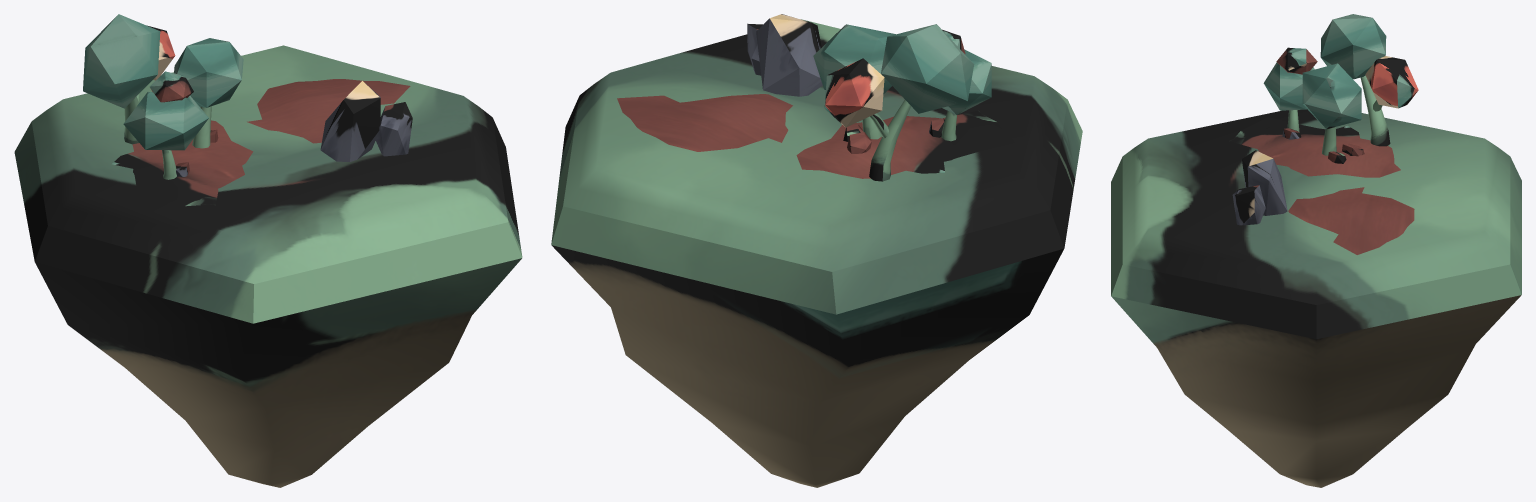
Rendered from islet_5.fbx.
The picture shows the model from 3 angles, left to right: view 1: azimuth 30°, elevation 25°; view 2: azimuth 150°, elevation 25°; view 3: azimuth 270°, elevation 25°; orthographic projection. The views are drawn at different scales.
Visible parts, largest first — view 1: polySurface569; view 2: polySurface569; view 3: polySurface569.
Part boxes in pixels (x1,y1,x2,y2): polySurface569: (14,14,522,487); polySurface569: (551,14,1082,487); polySurface569: (1111,14,1521,487).
Size of the model in its own units: 11.53 by 11.13 by 9.99.
